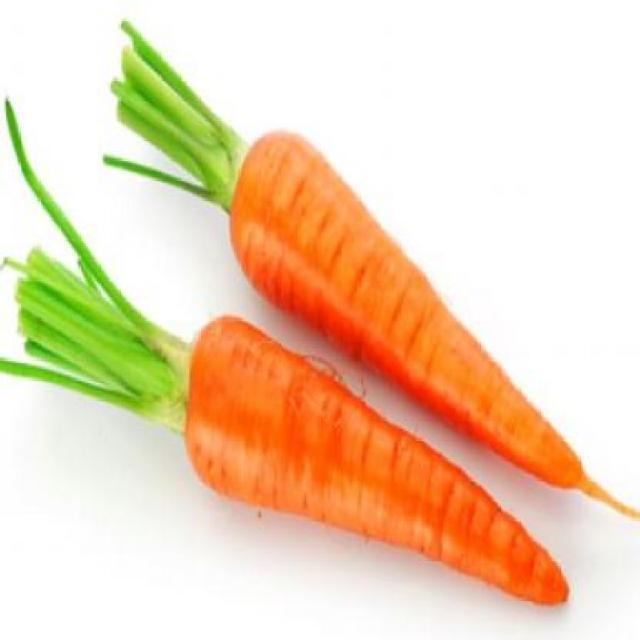carrot: (228, 124, 609, 506), (186, 308, 577, 617)
